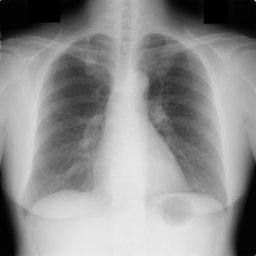left lobe: (140, 34, 227, 204)
right lobe: (27, 34, 112, 206)
